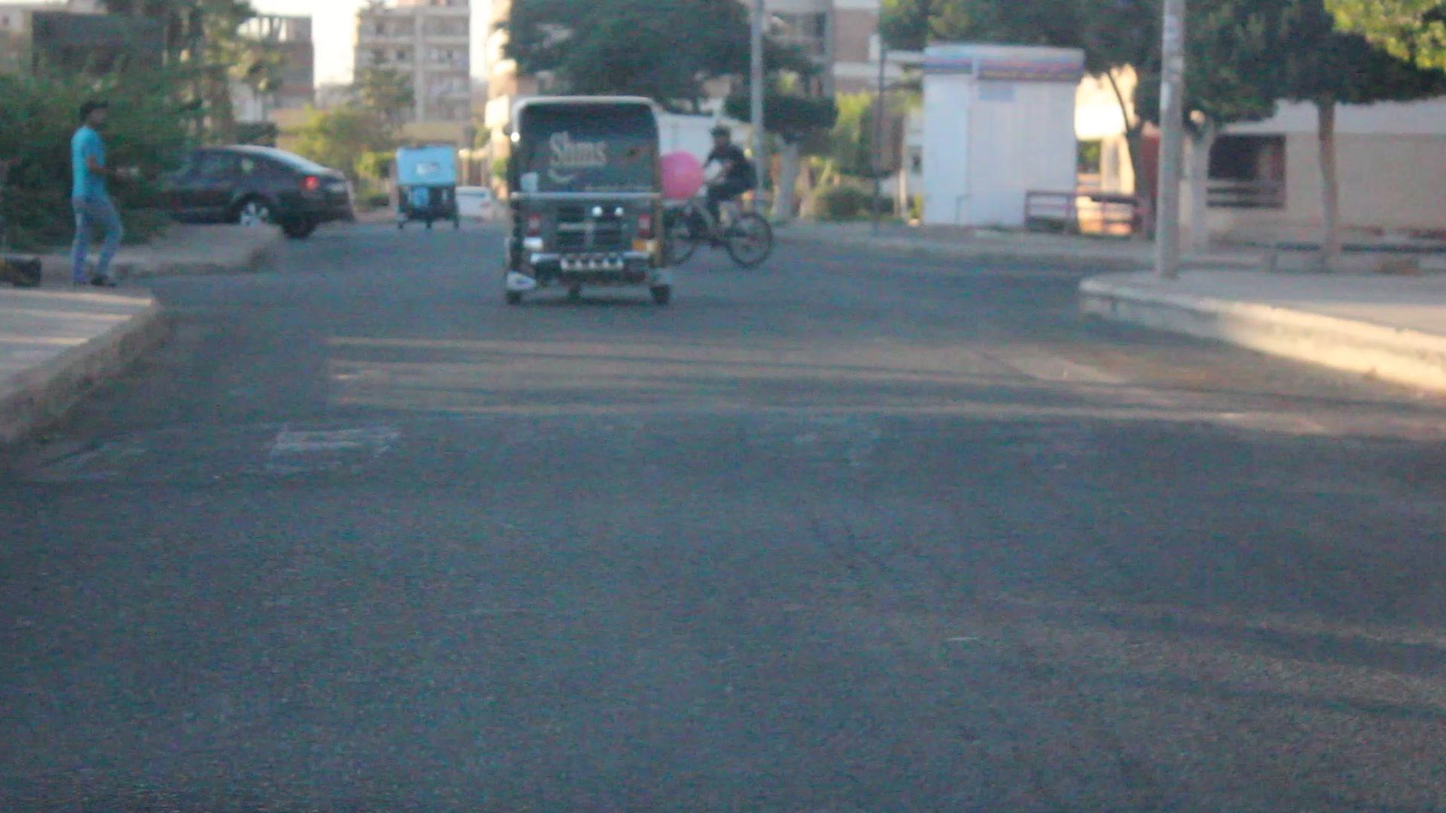Bump: (70, 399, 1446, 502)
